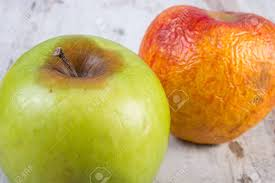damaged_apple: (2, 40, 169, 175), (146, 4, 275, 148)
